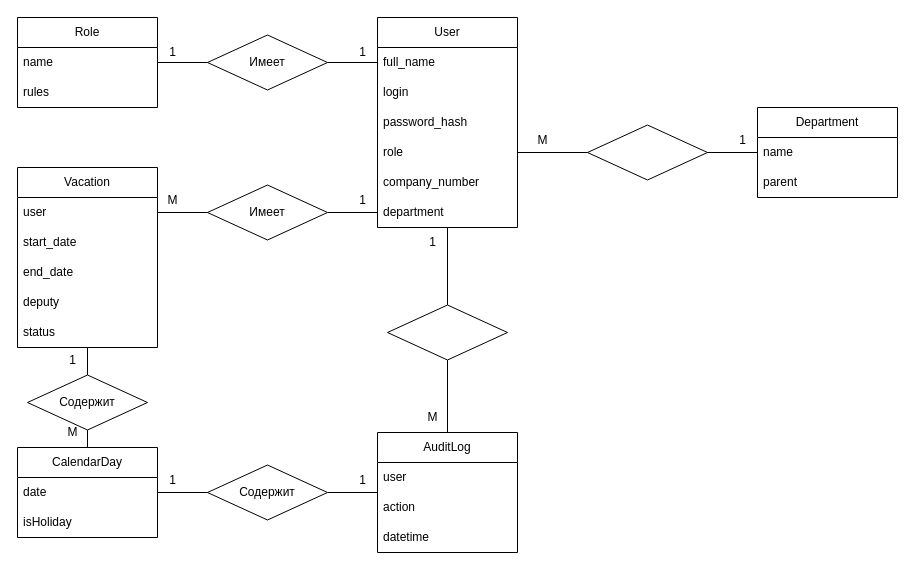
Some shapes in this 915 by 570 pixel diagram are drawn without their labels. Each missing label, with the centre of its shape:
Принадлежит: [647,152]
Создает: [447,332]
